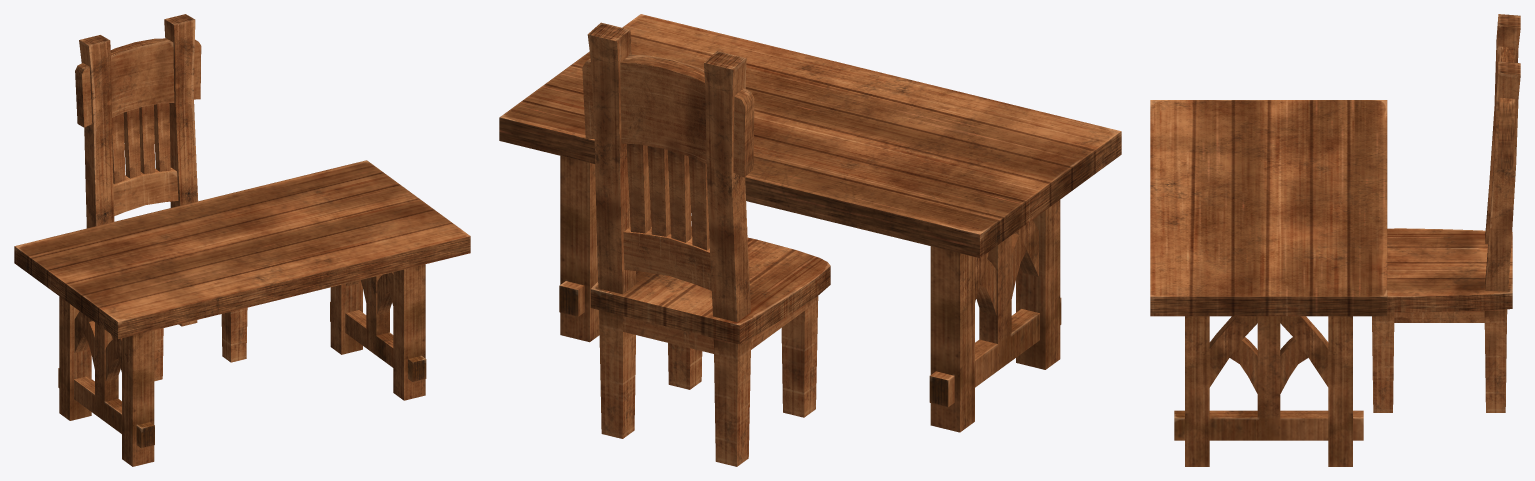
Rendered from wooden_table_chair.glb.
3 renders of one model, left to right at view 1: azimuth 30°, elevation 25°; view 2: azimuth 150°, elevation 25°; view 3: azimuth 270°, elevation 25°, orthographic. The views are drawn at different scales.
Visible parts, largest first — view 1: table_003, Object012_table_0; view 2: table_003, Object012_table_0; view 3: table_003, Object012_table_0.
Part boxes in pixels (bbox=[...]): table_003: bbox=[14, 160, 470, 466]; Object012_table_0: bbox=[75, 14, 247, 381]; table_003: bbox=[499, 14, 1121, 432]; Object012_table_0: bbox=[582, 22, 830, 466]; table_003: bbox=[1150, 100, 1387, 466]; Object012_table_0: bbox=[1372, 14, 1520, 412].
Size of the model in its own units: 503 by 407 by 400.
Materials: 1 (1 with a texture image).
